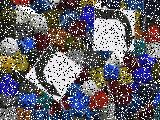Left: (25, 44, 83, 102)
Right: (93, 8, 135, 52)
